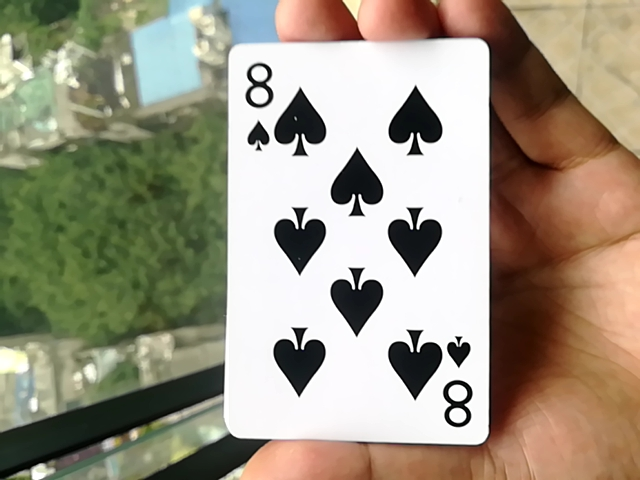ht 8: (222, 25, 481, 447)
